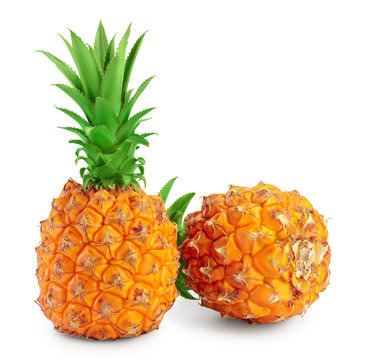Pineapple: (32, 19, 179, 341), (122, 178, 331, 324)
